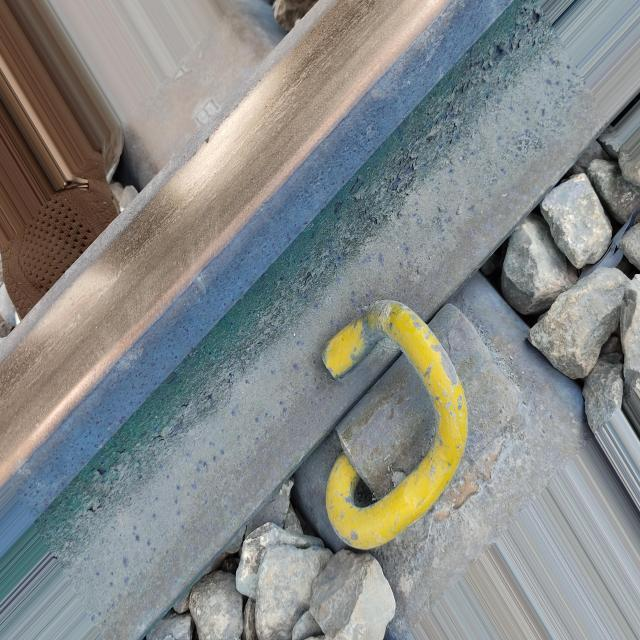Good Fasteners: (276, 252, 547, 561)
